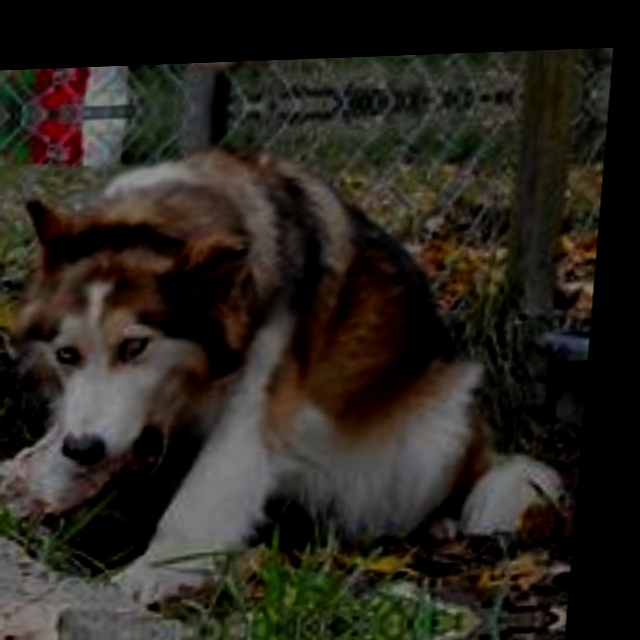dog: (0, 107, 561, 640), (25, 49, 566, 101), (0, 619, 520, 640)
